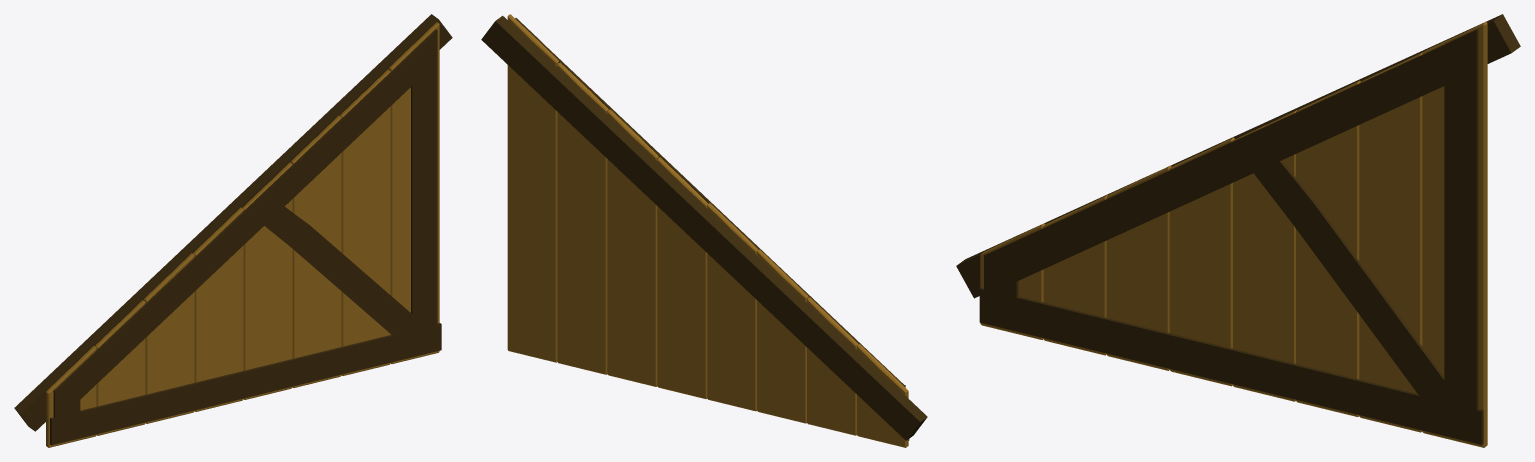
Rendered from zid krov levo.FBX.
3 views of the same model, side by side, from view 1: azimuth 30°, elevation 25°; view 2: azimuth 150°, elevation 25°; view 3: azimuth 330°, elevation 25° (orthographic). The views are drawn at different scales.
Visible parts, largest first — view 1: zid_krov_tarabe001, zid_krov_ukras001, zid_krov_gredica001; view 2: zid_krov_tarabe001, zid_krov_gredica001, zid_krov_ukras001; view 3: zid_krov_tarabe001, zid_krov_ukras001, zid_krov_gredica001.
Part boxes in pixels (x1,y1,x2,y2): zid_krov_tarabe001: (46, 22, 439, 447); zid_krov_ukras001: (50, 29, 441, 445); zid_krov_gredica001: (14, 14, 452, 431); zid_krov_tarabe001: (507, 14, 908, 447); zid_krov_gredica001: (481, 15, 927, 440); zid_krov_ukras001: (515, 18, 909, 440); zid_krov_tarabe001: (980, 22, 1487, 447); zid_krov_ukras001: (979, 29, 1483, 444); zid_krov_gredica001: (956, 14, 1520, 298).
Size of the model in its own units: 172 by 126 by 9.1.
